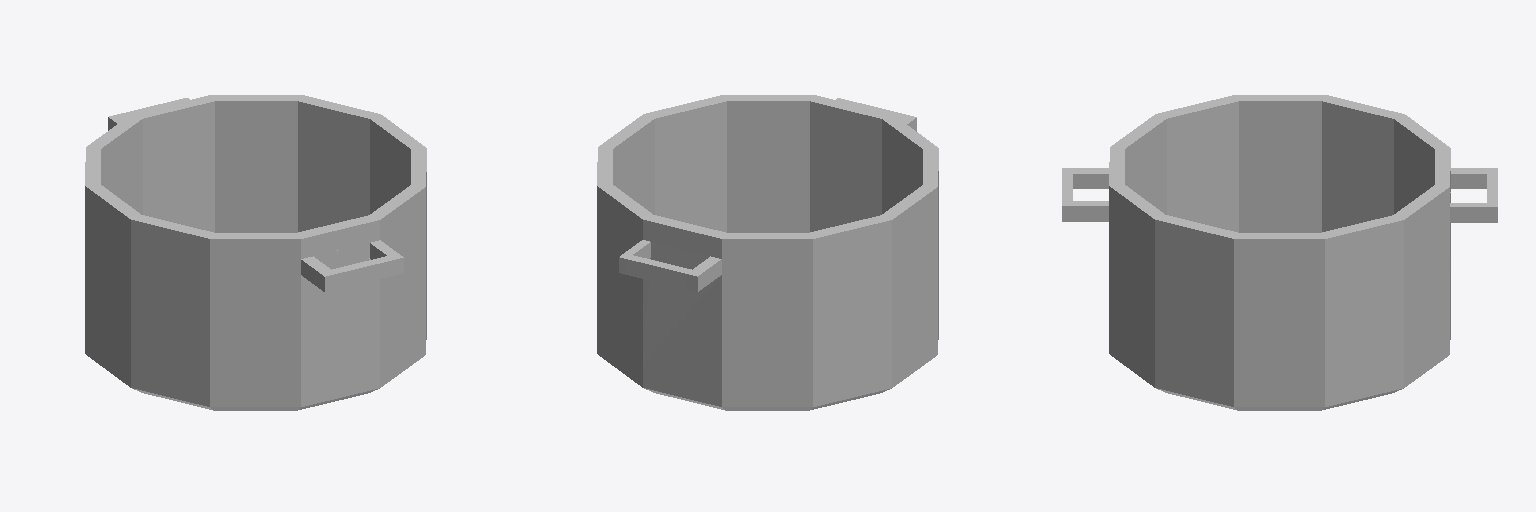
File: pot_01.obj
3 renders of one model, left to right at view 1: azimuth 30°, elevation 25°; view 2: azimuth 150°, elevation 25°; view 3: azimuth 270°, elevation 25°, orthographic.
Parts seen in each view (by area): view 1: pot; view 2: pot; view 3: pot.
Boxes of the visible parts, x1,y1,x2,y2 form: pot: [85, 95, 426, 410]; pot: [597, 95, 938, 410]; pot: [1062, 95, 1497, 410].
Bounding box in the file's own units: 0.712 × 0.4098 × 0.9108.